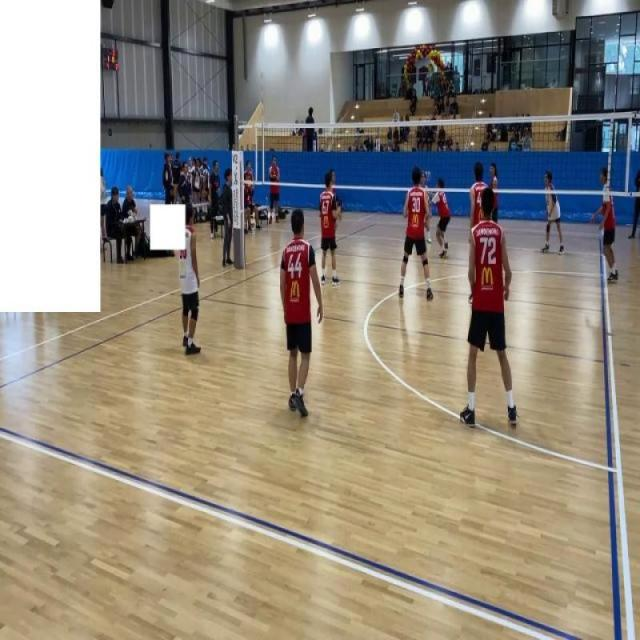volleyball: (426, 58, 434, 73)
